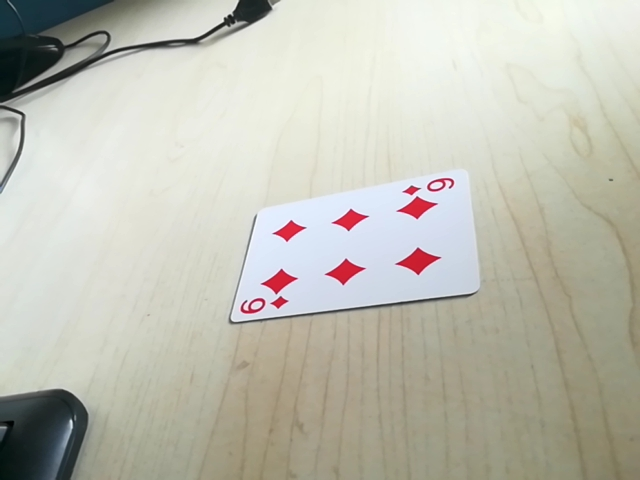fk 6: (234, 293, 294, 321), (405, 172, 463, 199)
